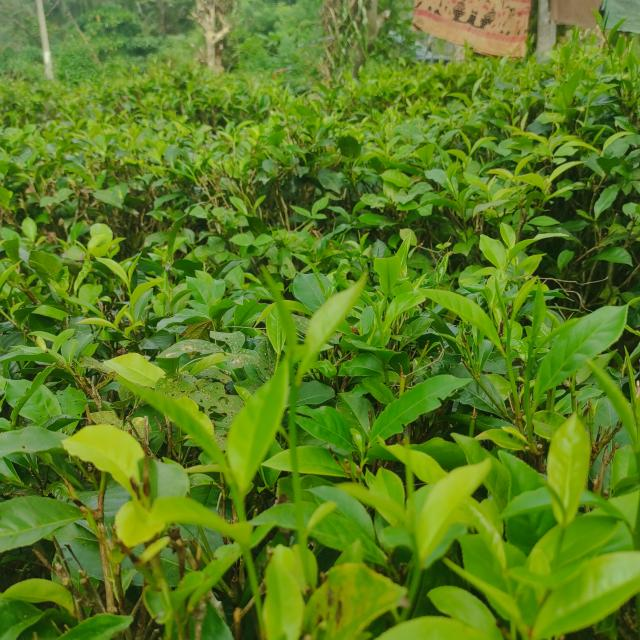unopened_leaf: (253, 257, 303, 385), (533, 468, 575, 524), (490, 268, 516, 334), (618, 343, 640, 420)
